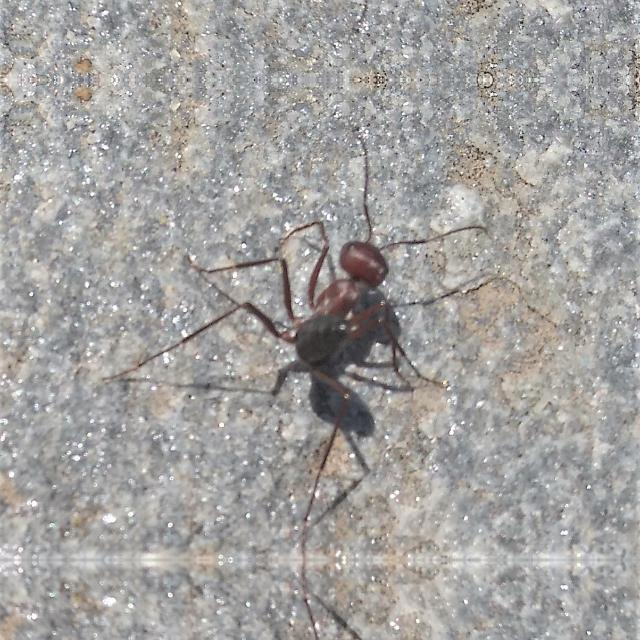Cataglyphis: (238, 206, 436, 394)
